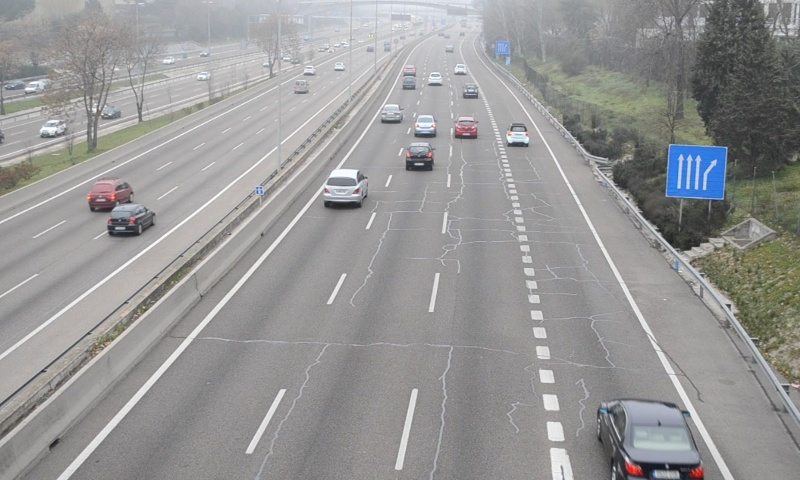car: (596, 400, 706, 480), (323, 167, 368, 205), (405, 142, 436, 171), (507, 122, 530, 147), (414, 114, 437, 138), (455, 116, 478, 139), (380, 104, 404, 124), (462, 83, 480, 99), (400, 76, 417, 90), (426, 72, 443, 85)
